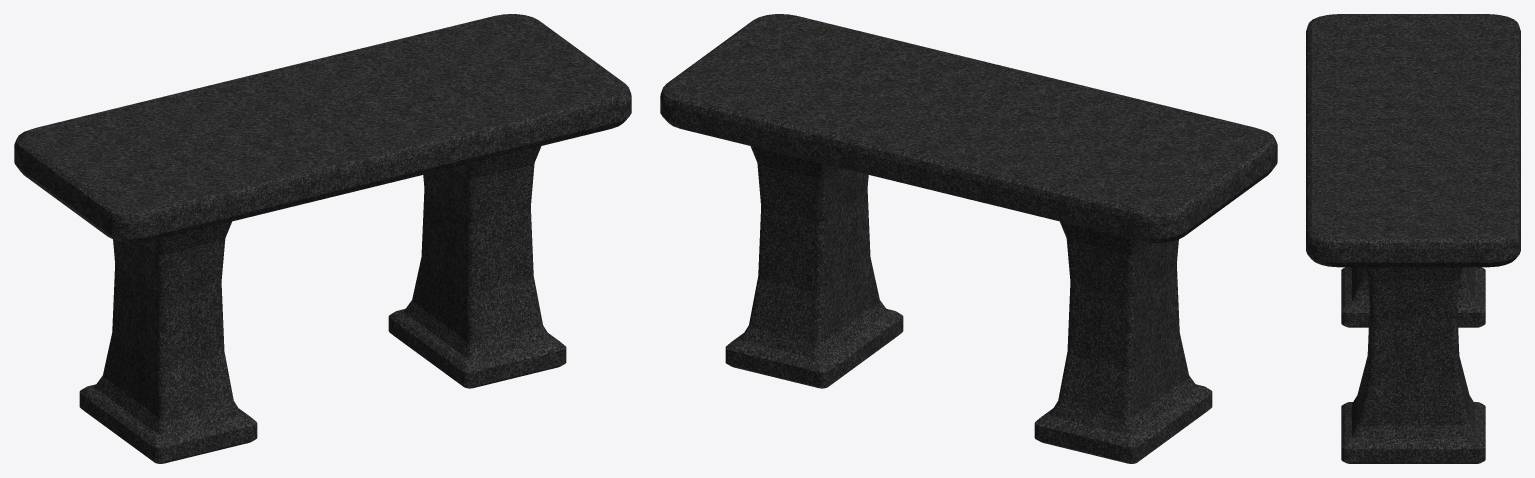
Rendered from bench.glb.
3 views of the same model, side by side, from view 1: azimuth 30°, elevation 25°; view 2: azimuth 150°, elevation 25°; view 3: azimuth 270°, elevation 25° (orthographic). The views are drawn at different scales.
Parts seen in each view (by area): view 1: SM_bench; view 2: SM_bench; view 3: SM_bench.
Part boxes in pixels (<box>): SM_bench: <box>14,14,631,463</box>; SM_bench: <box>660,14,1277,463</box>; SM_bench: <box>1306,14,1520,463</box>.
Bounding box in the file's own units: 0.86 × 0.433 × 0.34.
Materials: 2 (2 with a texture image).
